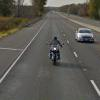Motorcycle: (40, 35, 69, 67)
